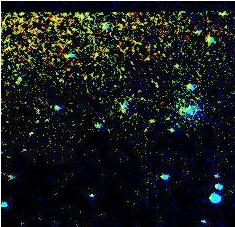star: (135, 105, 165, 135)
